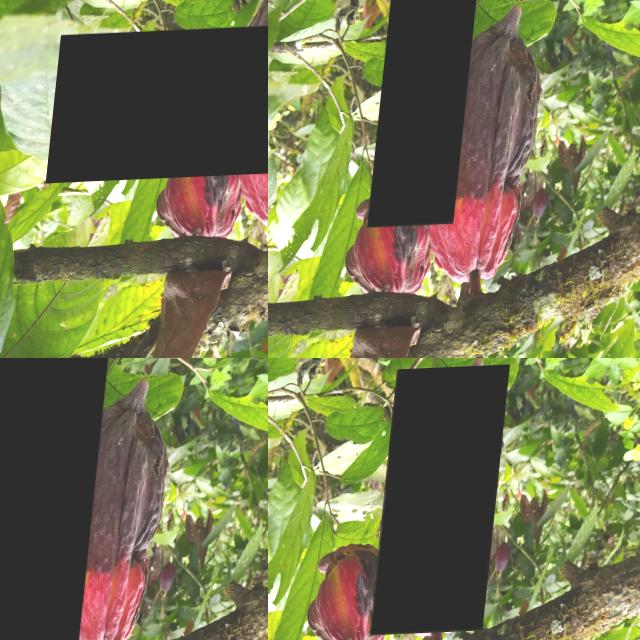Fitoftora: (379, 368, 514, 638), (0, 358, 122, 640), (375, 0, 484, 229), (315, 547, 407, 640)
Monilia: (54, 25, 268, 184), (344, 0, 388, 70)
